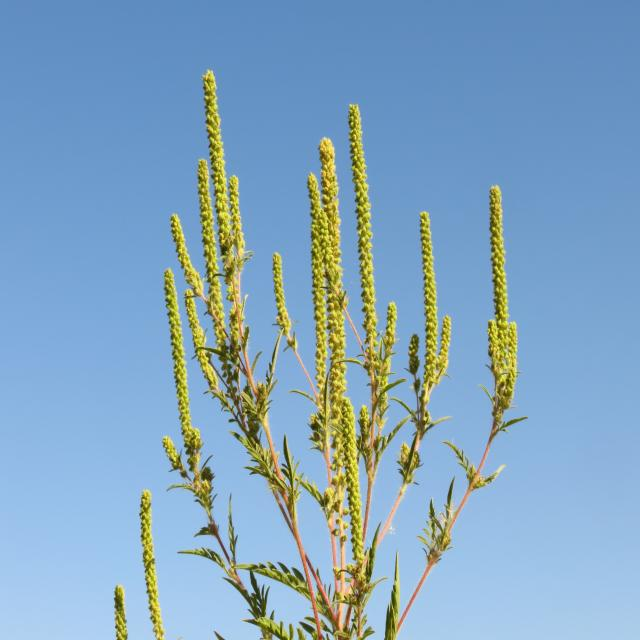ambrosia: (290, 97, 450, 380), (185, 63, 268, 369), (295, 389, 419, 587), (80, 486, 229, 630), (142, 254, 214, 478), (468, 163, 526, 418)
